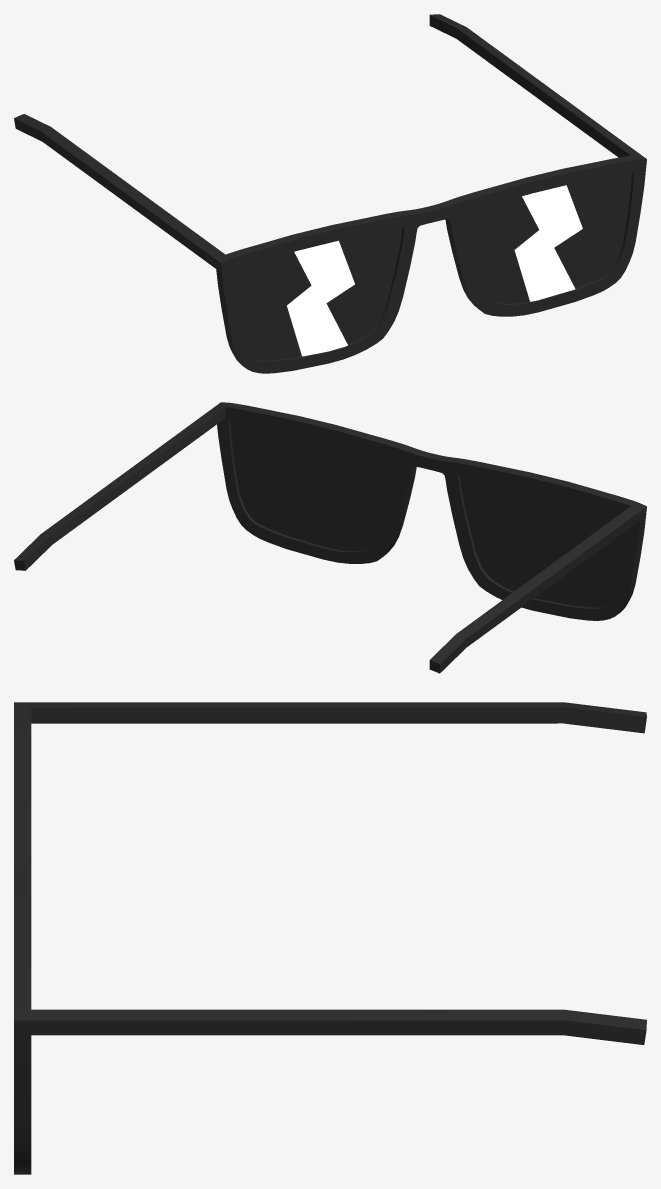
File: sunglasses.glb
3 renders of one model, top to bottom at view 1: azimuth 30°, elevation 25°; view 2: azimuth 150°, elevation 25°; view 3: azimuth 270°, elevation 25°, orthographic. The views are drawn at different scales.
Visible parts, largest first — view 1: Plane.100; view 2: Plane.100; view 3: Plane.100.
Part boxes in pixels (bbox=[...]): Plane.100: bbox=[14, 14, 646, 373]; Plane.100: bbox=[14, 402, 646, 673]; Plane.100: bbox=[14, 702, 646, 1174].
Bounding box in the file's own units: 2 × 0.5924 × 1.68.
Materials: 1 (1 with a texture image).
